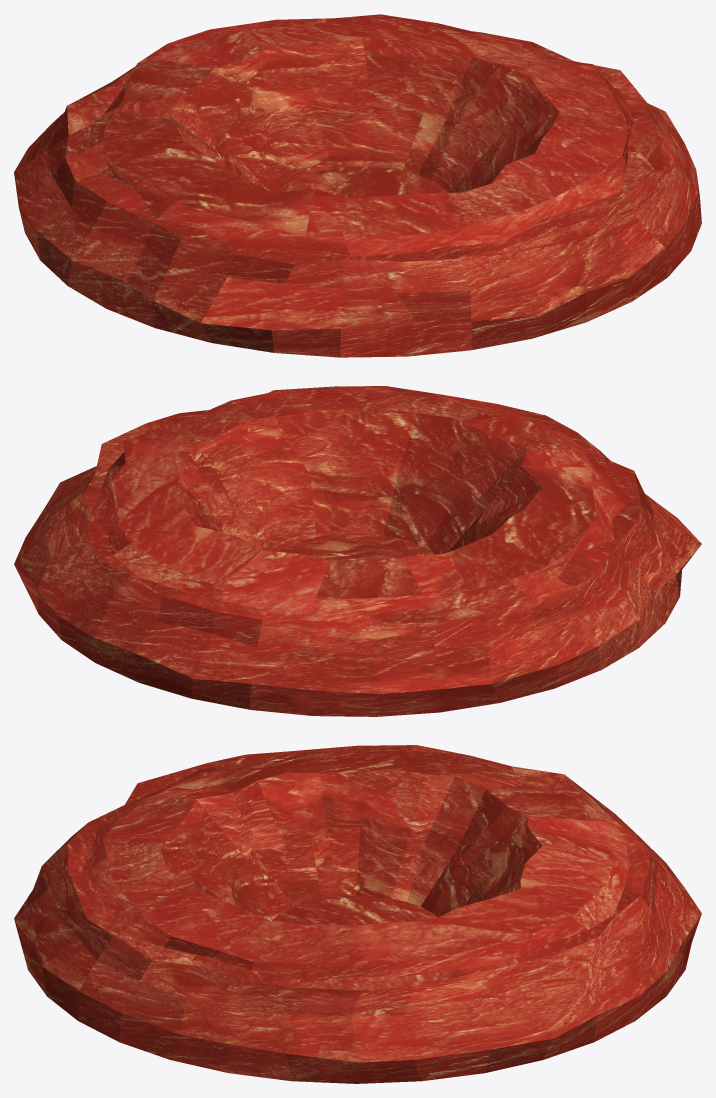
File: Pile.fbx
3 views of the same model, one above another, from view 1: azimuth 30°, elevation 25°; view 2: azimuth 150°, elevation 25°; view 3: azimuth 270°, elevation 25° (orthographic). The views are drawn at different scales.
Visible parts, largest first — view 1: Cylinder; view 2: Cylinder; view 3: Cylinder.
Boxes of the visible parts, bbox=[...] form: Cylinder: bbox=[14, 14, 701, 357]; Cylinder: bbox=[14, 386, 701, 716]; Cylinder: bbox=[14, 745, 701, 1083].
Size of the model in its own units: 201 by 31.57 by 203.
Materials: 1 (1 with a texture image).
